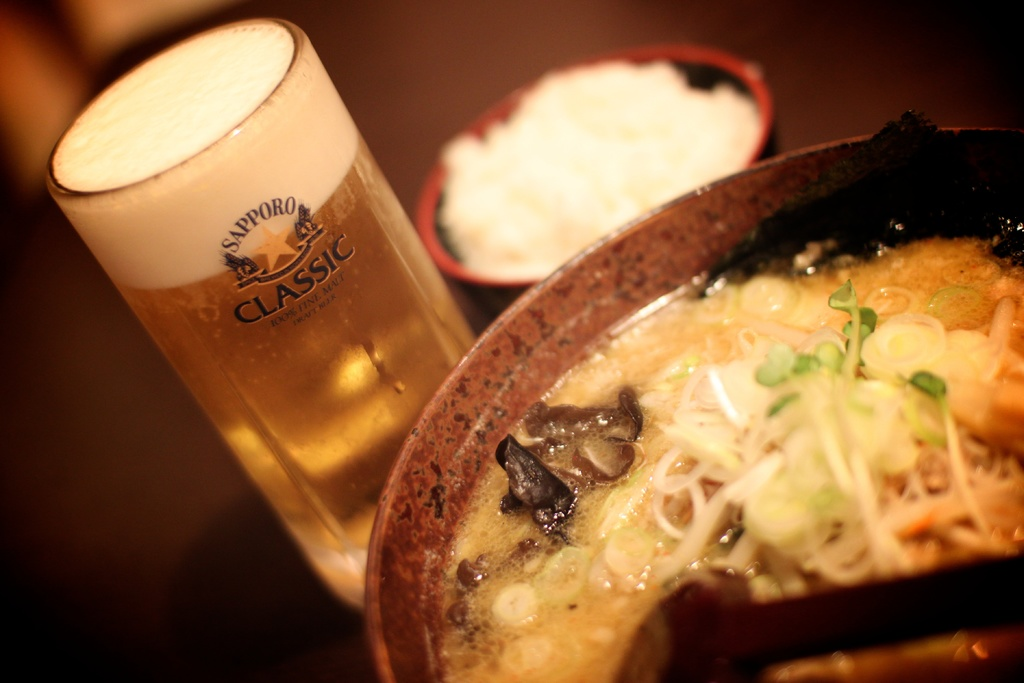Beer: (35, 10, 483, 641)
